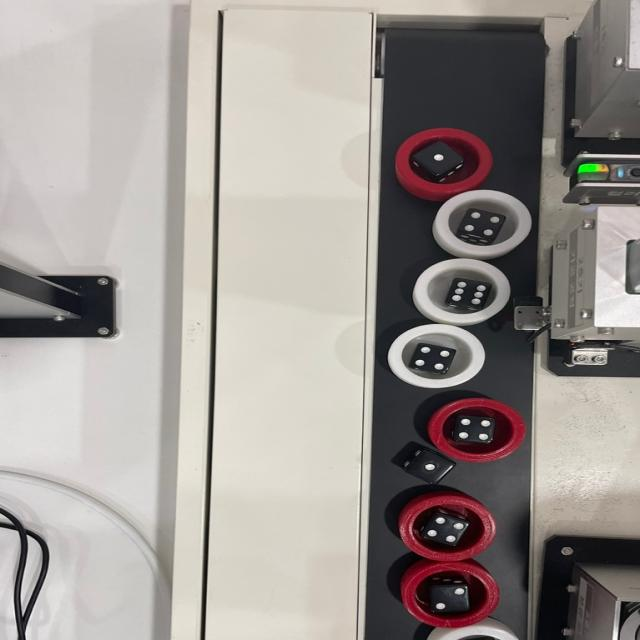DICE1: (404, 452, 451, 481), (422, 145, 462, 172)
DICE2: (430, 585, 470, 611)
DICE4: (456, 414, 494, 444), (463, 208, 504, 235), (424, 515, 466, 541), (414, 343, 451, 369)
DICE6: (445, 276, 489, 308)
RedChip: (396, 127, 494, 195), (400, 562, 500, 626), (426, 396, 525, 460), (397, 495, 494, 560)
WhiteChip: (413, 258, 513, 326), (435, 190, 534, 257), (388, 326, 486, 388), (431, 624, 528, 640)
